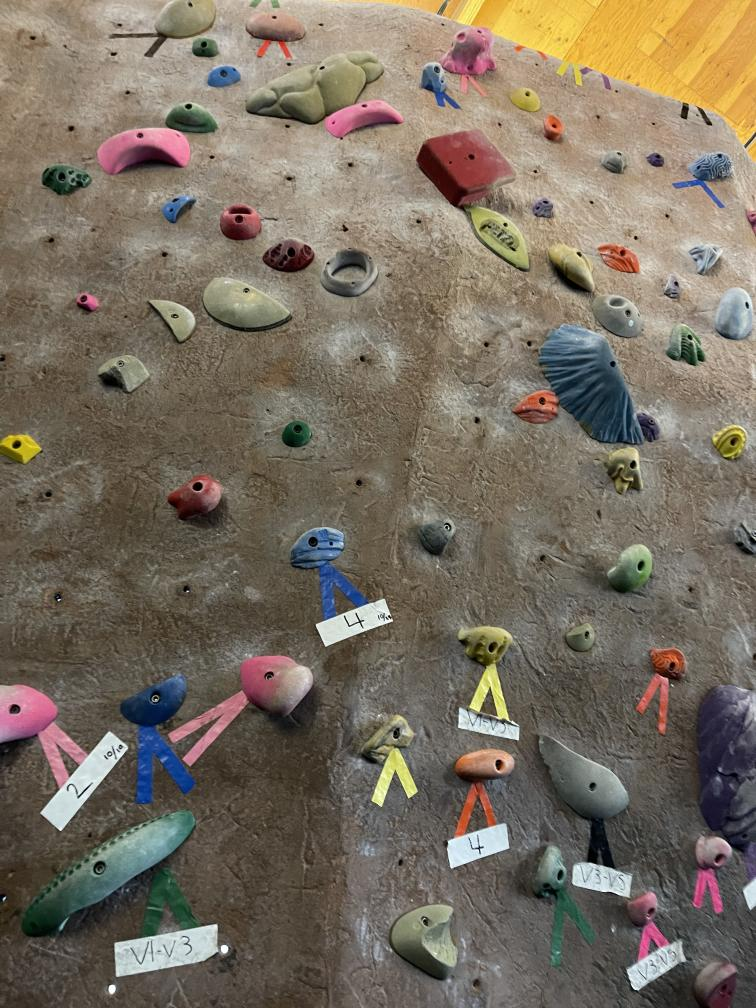Crimp: (199, 272, 295, 340), (113, 676, 194, 730), (356, 711, 425, 770), (144, 288, 197, 350), (288, 524, 349, 571), (513, 390, 562, 426), (599, 242, 646, 276), (160, 189, 201, 226), (560, 622, 604, 655), (648, 647, 686, 681), (201, 67, 244, 94)
Edges: (6, 799, 209, 963), (532, 728, 639, 829), (687, 240, 722, 277)
Foothold: (410, 512, 463, 561), (0, 420, 47, 472), (276, 419, 318, 456), (70, 288, 99, 314), (652, 151, 664, 173)
Jug: (417, 125, 520, 202), (238, 650, 313, 726), (467, 204, 533, 275), (0, 685, 59, 747), (164, 472, 225, 526), (456, 615, 519, 666), (608, 544, 660, 601), (546, 234, 590, 300), (660, 318, 714, 370), (442, 28, 495, 78), (527, 840, 567, 905), (150, 1, 224, 36), (696, 949, 739, 1008), (257, 241, 324, 274), (36, 159, 93, 197), (706, 423, 752, 465), (603, 447, 648, 488), (625, 891, 662, 930), (694, 835, 731, 871), (418, 59, 446, 93), (536, 114, 566, 142)
Pinch: (90, 128, 197, 170), (316, 101, 408, 143), (452, 749, 519, 788), (96, 354, 147, 398), (160, 101, 216, 135)
Pocket: (318, 245, 378, 301), (595, 290, 645, 341), (217, 203, 265, 243)
Sloper: (531, 319, 645, 447), (245, 50, 387, 129), (699, 681, 756, 850), (394, 900, 463, 977), (714, 285, 756, 342), (248, 14, 309, 45), (689, 147, 738, 184), (599, 148, 632, 178), (511, 83, 544, 111), (193, 37, 220, 58)
